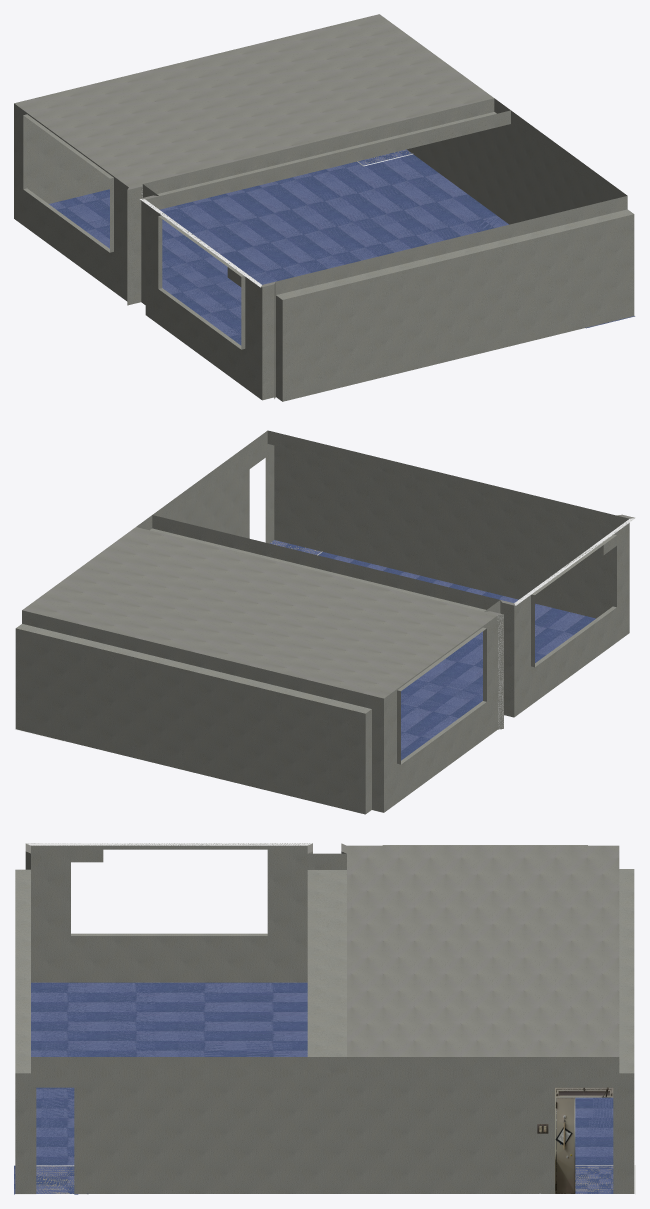
File: room2.dae
3 views of the same model, one above another, from view 1: azimuth 30°, elevation 25°; view 2: azimuth 150°, elevation 25°; view 3: azimuth 270°, elevation 25° (orthographic). The views are drawn at different scales.
Visible parts, largest first — view 1: SketchUp (×8); view 2: SketchUp (×8); view 3: SketchUp (×9).
Boxes of the visible parts, x1,y1,x2,y2 form: SketchUp (×8): (14,14,634,401); SketchUp (×8): (15,430,635,814); SketchUp (×9): (15,843,634,1193).
Bounding box in the file's own units: 363 × 445 × 108.
Materials: 8 (7 with a texture image).
